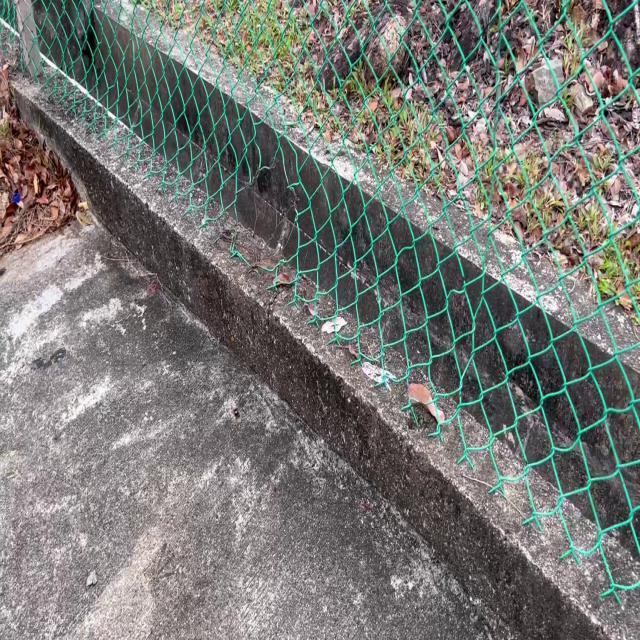fence line: (228, 152, 304, 287)
